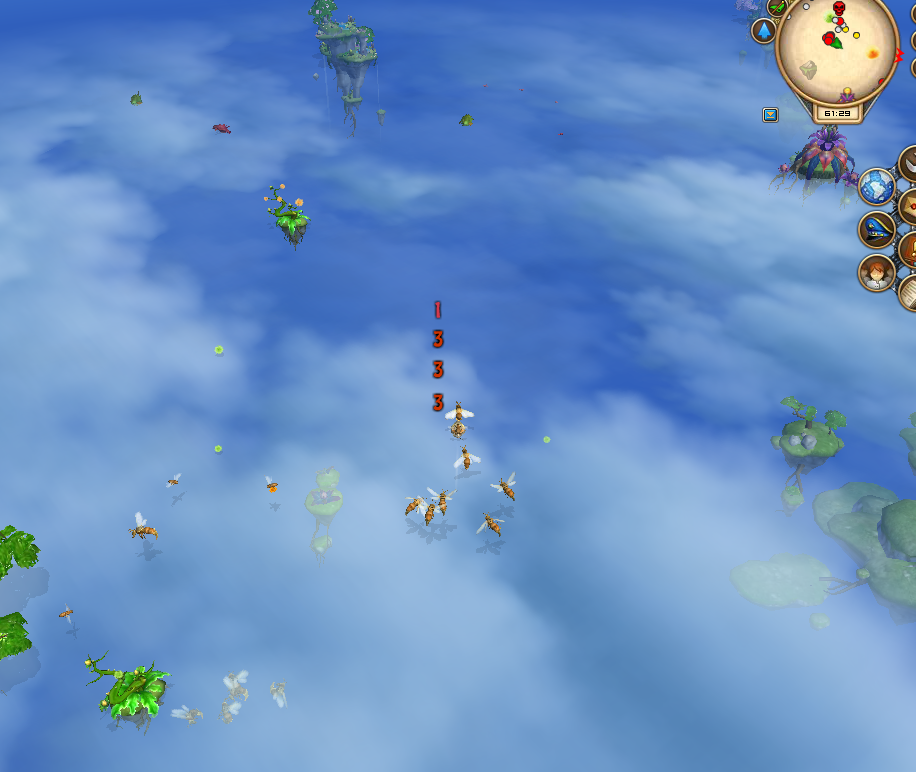dandelion-empty: (81, 647, 176, 737)
dandelion-full: (257, 182, 313, 250)
fluff: (210, 440, 226, 459), (212, 343, 226, 359), (540, 431, 554, 447)
